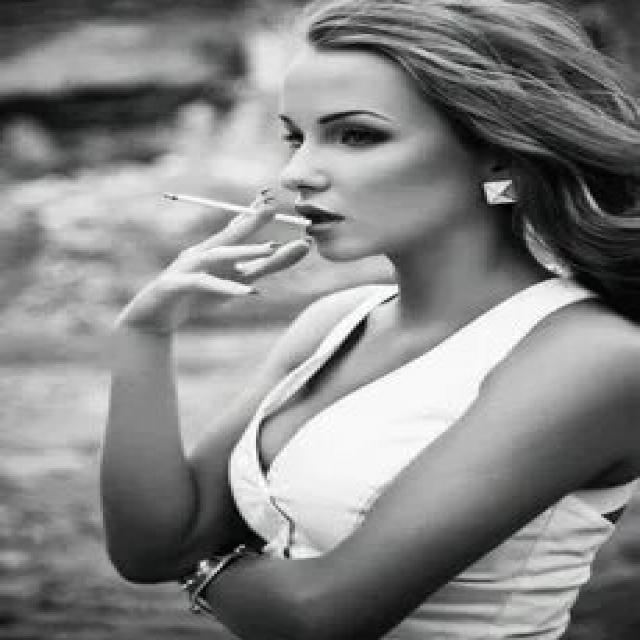cigarette: (159, 188, 317, 236)
